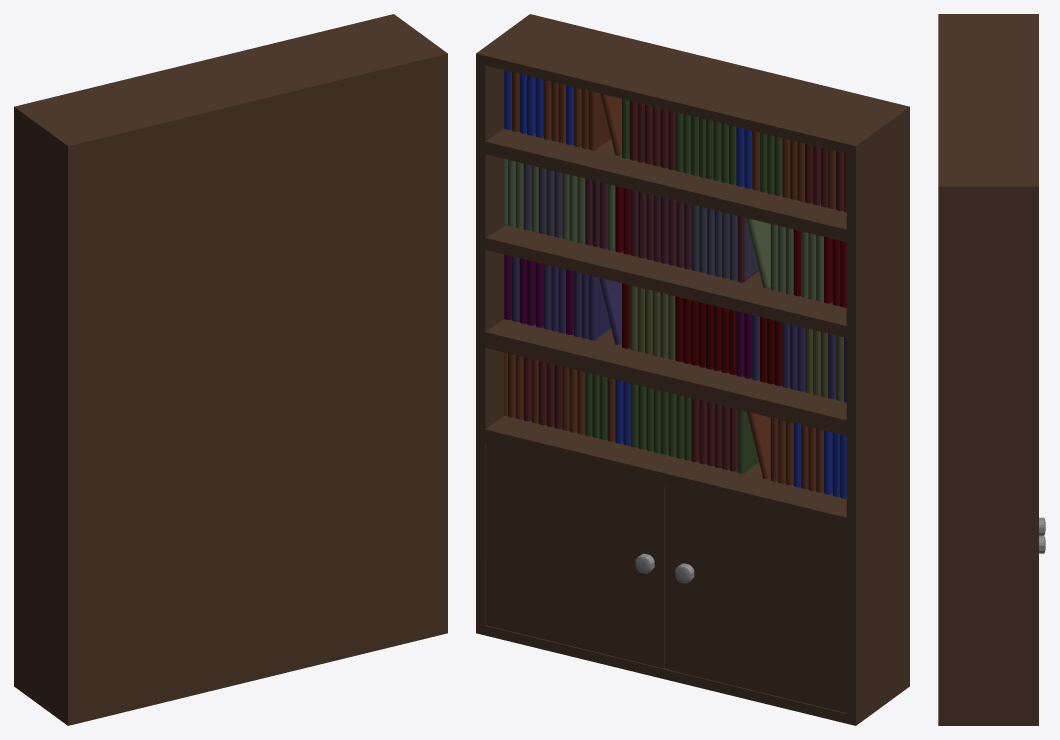
Rendered from BookcaseWithBooks.fbx.
The picture shows the model from 3 angles, left to right: view 1: azimuth 30°, elevation 25°; view 2: azimuth 150°, elevation 25°; view 3: azimuth 270°, elevation 25°; orthographic projection. The views are drawn at different scales.
Visible parts, largest first — view 1: Plane.001; view 2: Plane.001; view 3: Plane.001.
Part boxes in pixels (<box>): Plane.001: <box>14,14,447,725</box>; Plane.001: <box>476,14,909,725</box>; Plane.001: <box>938,14,1045,725</box>.
Bounding box in the file's own units: 451 × 657 × 118.
